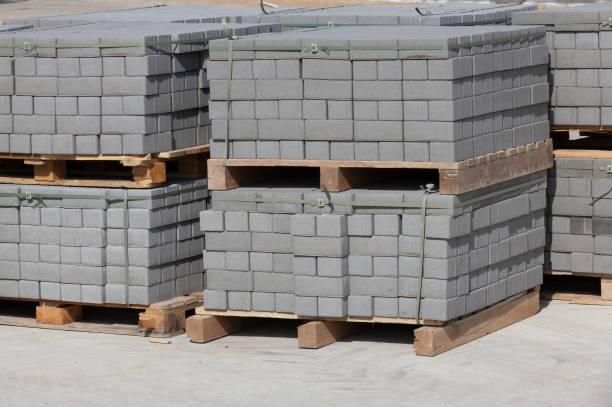Bricks: (396, 37, 458, 58), (400, 300, 464, 320), (402, 279, 469, 298), (108, 207, 162, 229), (549, 151, 593, 178), (404, 215, 463, 235), (552, 65, 598, 89), (548, 231, 590, 257), (399, 238, 458, 256), (102, 37, 168, 53), (295, 234, 345, 254), (554, 87, 599, 109), (557, 47, 600, 70), (297, 276, 343, 297), (305, 121, 354, 140), (350, 39, 394, 60), (106, 250, 160, 267), (406, 123, 463, 139), (552, 107, 600, 126), (550, 195, 591, 217), (302, 37, 347, 57), (349, 279, 394, 299), (104, 269, 160, 285), (105, 117, 154, 135), (108, 287, 157, 305), (300, 59, 349, 77), (406, 83, 460, 99), (57, 38, 102, 57), (212, 137, 257, 156), (401, 259, 454, 275), (254, 269, 294, 290), (15, 40, 59, 59), (106, 231, 161, 246), (61, 230, 106, 248), (355, 120, 400, 138), (304, 79, 354, 95), (350, 236, 399, 252), (354, 82, 402, 98), (102, 77, 147, 94), (549, 217, 589, 236), (557, 11, 599, 29), (429, 100, 466, 120), (21, 263, 62, 281), (213, 121, 256, 138), (551, 177, 594, 194), (551, 255, 594, 272), (18, 77, 56, 96), (211, 40, 252, 57), (206, 233, 247, 250), (258, 42, 301, 58), (258, 82, 301, 98), (213, 83, 257, 98), (464, 286, 486, 316), (249, 236, 291, 251), (530, 118, 551, 148), (585, 157, 611, 181), (58, 79, 99, 94), (206, 63, 253, 76), (58, 119, 101, 133), (428, 63, 471, 77), (61, 265, 101, 280), (488, 239, 510, 266), (226, 291, 254, 312), (23, 226, 59, 242), (522, 264, 543, 291), (262, 123, 302, 137), (494, 199, 526, 216), (488, 275, 505, 307), (348, 254, 375, 274), (526, 226, 544, 256), (504, 270, 523, 298), (123, 99, 156, 115), (378, 59, 402, 81), (207, 274, 251, 286), (277, 296, 302, 317), (211, 104, 254, 116), (507, 234, 529, 257), (512, 86, 534, 109), (399, 60, 427, 78), (494, 47, 514, 72), (122, 138, 155, 153), (405, 139, 428, 160), (171, 91, 199, 108), (318, 297, 344, 315), (434, 146, 463, 162), (99, 134, 121, 155), (375, 215, 396, 237), (553, 30, 575, 51), (98, 96, 121, 116), (350, 218, 373, 238), (591, 217, 611, 240), (225, 252, 252, 269), (401, 103, 425, 122), (512, 71, 536, 90), (280, 140, 305, 158), (19, 117, 53, 130), (319, 258, 345, 275), (41, 208, 63, 228), (528, 190, 546, 214), (377, 102, 398, 122), (593, 176, 609, 202), (76, 98, 99, 116), (292, 216, 315, 234), (351, 60, 375, 77), (576, 31, 600, 48), (458, 76, 474, 101), (34, 96, 55, 115), (29, 135, 50, 154), (21, 278, 42, 297), (249, 214, 270, 233), (592, 199, 611, 220), (206, 292, 228, 310), (80, 287, 103, 304), (303, 101, 326, 118), (471, 247, 488, 270), (594, 254, 611, 277), (101, 60, 127, 75), (79, 249, 103, 265), (224, 211, 245, 229), (511, 108, 532, 126), (593, 238, 611, 259), (178, 243, 203, 258), (176, 272, 198, 289), (305, 141, 327, 158), (351, 101, 374, 117), (318, 218, 341, 234), (57, 96, 76, 115), (62, 208, 81, 227), (258, 102, 277, 121), (16, 58, 36, 76), (34, 59, 58, 74), (81, 211, 105, 226), (177, 204, 201, 219), (250, 253, 270, 271), (252, 291, 272, 309), (493, 111, 513, 129), (51, 133, 72, 150), (327, 102, 348, 119), (475, 94, 492, 115), (456, 251, 472, 273), (296, 257, 319, 272), (1, 223, 20, 241), (380, 142, 399, 160), (297, 300, 316, 318), (473, 210, 491, 229), (74, 134, 94, 151), (258, 61, 278, 78), (476, 76, 496, 93), (531, 103, 551, 120), (462, 115, 476, 139), (477, 113, 493, 134), (349, 299, 371, 314), (472, 57, 494, 72), (21, 208, 39, 226), (151, 79, 170, 96), (40, 245, 59, 262), (173, 113, 196, 127), (173, 132, 196, 146), (59, 59, 79, 75), (331, 145, 351, 161), (180, 259, 204, 272), (374, 302, 396, 316), (174, 56, 196, 70), (43, 281, 60, 299), (283, 60, 301, 77), (355, 144, 374, 160), (378, 259, 397, 275), (173, 78, 198, 90), (58, 285, 78, 300), (149, 57, 170, 71), (157, 134, 174, 151), (11, 136, 29, 152), (201, 215, 223, 228), (489, 129, 502, 151), (1, 280, 20, 295), (513, 54, 532, 69), (81, 58, 101, 72), (1, 57, 14, 78), (129, 58, 146, 74), (62, 248, 80, 263), (281, 102, 299, 117), (261, 140, 276, 158), (493, 91, 511, 106), (13, 100, 33, 113), (3, 243, 20, 258), (21, 246, 38, 261), (274, 255, 291, 270), (473, 134, 484, 157), (531, 46, 549, 60), (0, 262, 19, 275), (534, 85, 550, 100), (501, 133, 516, 149), (513, 129, 528, 145), (2, 208, 19, 222), (207, 253, 224, 267), (275, 215, 288, 233), (4, 115, 17, 133), (0, 77, 14, 93), (161, 226, 174, 243), (462, 137, 473, 157), (0, 92, 10, 113), (164, 280, 175, 299), (600, 50, 612, 67), (457, 234, 468, 252), (484, 135, 492, 159), (603, 105, 612, 126), (164, 209, 176, 223), (598, 89, 612, 101), (160, 266, 175, 277), (601, 67, 612, 82), (464, 96, 471, 119), (532, 213, 544, 226), (495, 77, 512, 86), (163, 248, 175, 260), (490, 270, 503, 281), (472, 235, 486, 245), (488, 229, 498, 243), (602, 32, 612, 45), (0, 136, 9, 150), (179, 227, 191, 237), (160, 117, 170, 128), (467, 213, 472, 234), (502, 227, 510, 240), (480, 272, 487, 285), (469, 274, 477, 285), (531, 256, 541, 264)
